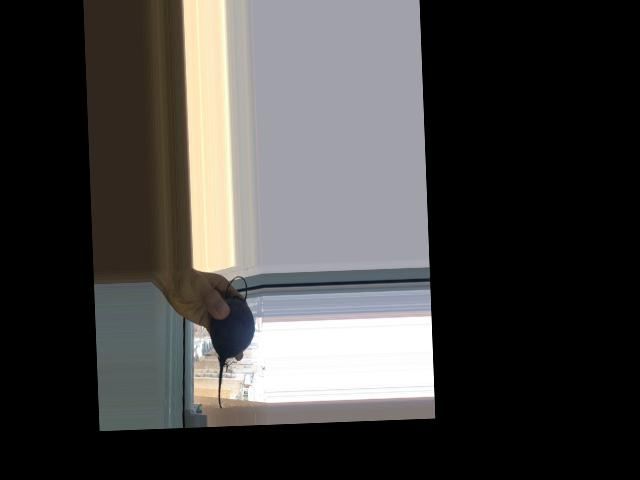beet: (207, 276, 257, 409)
